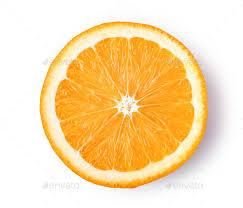orange: (39, 7, 204, 190)
